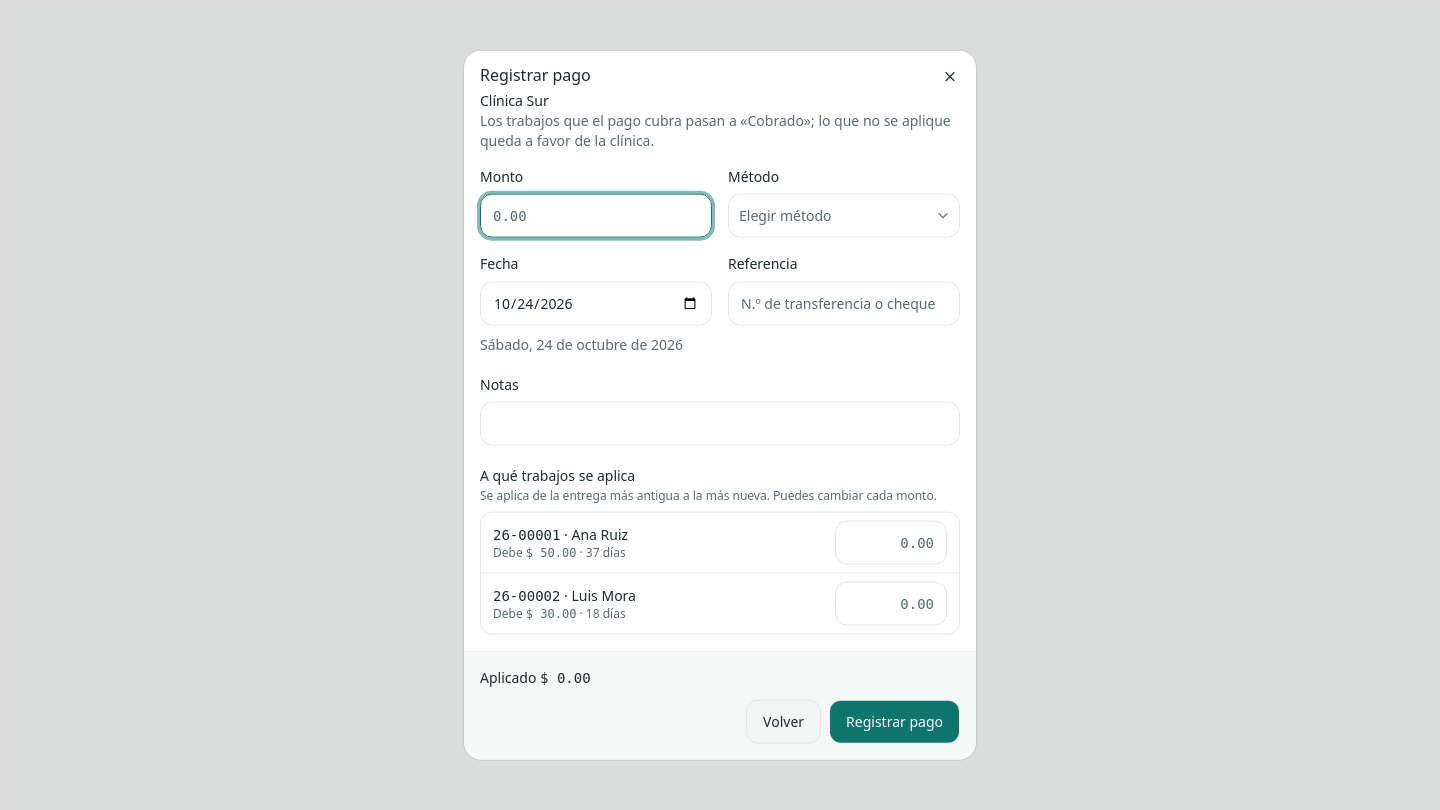
Test: PaymentDialog («Registrar pago», CTA-2) › valida en el formulario: método, y lo aplicado contra el monto
Type "10" into the field labelled "Monto" at (596, 216), box [480, 194, 712, 238]
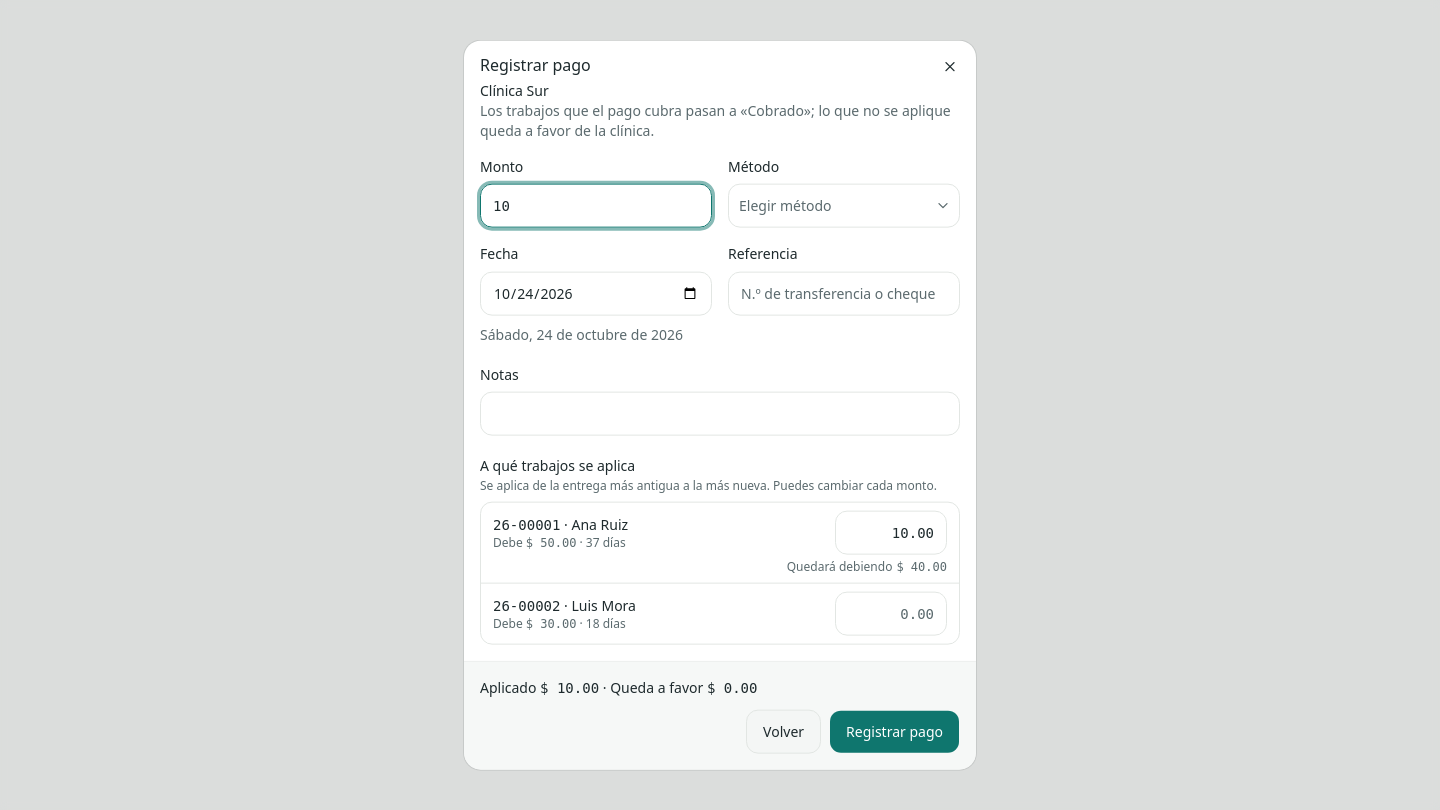
Clear the field named "Monto para 26-00001" at (891, 532), box [835, 510, 947, 554]
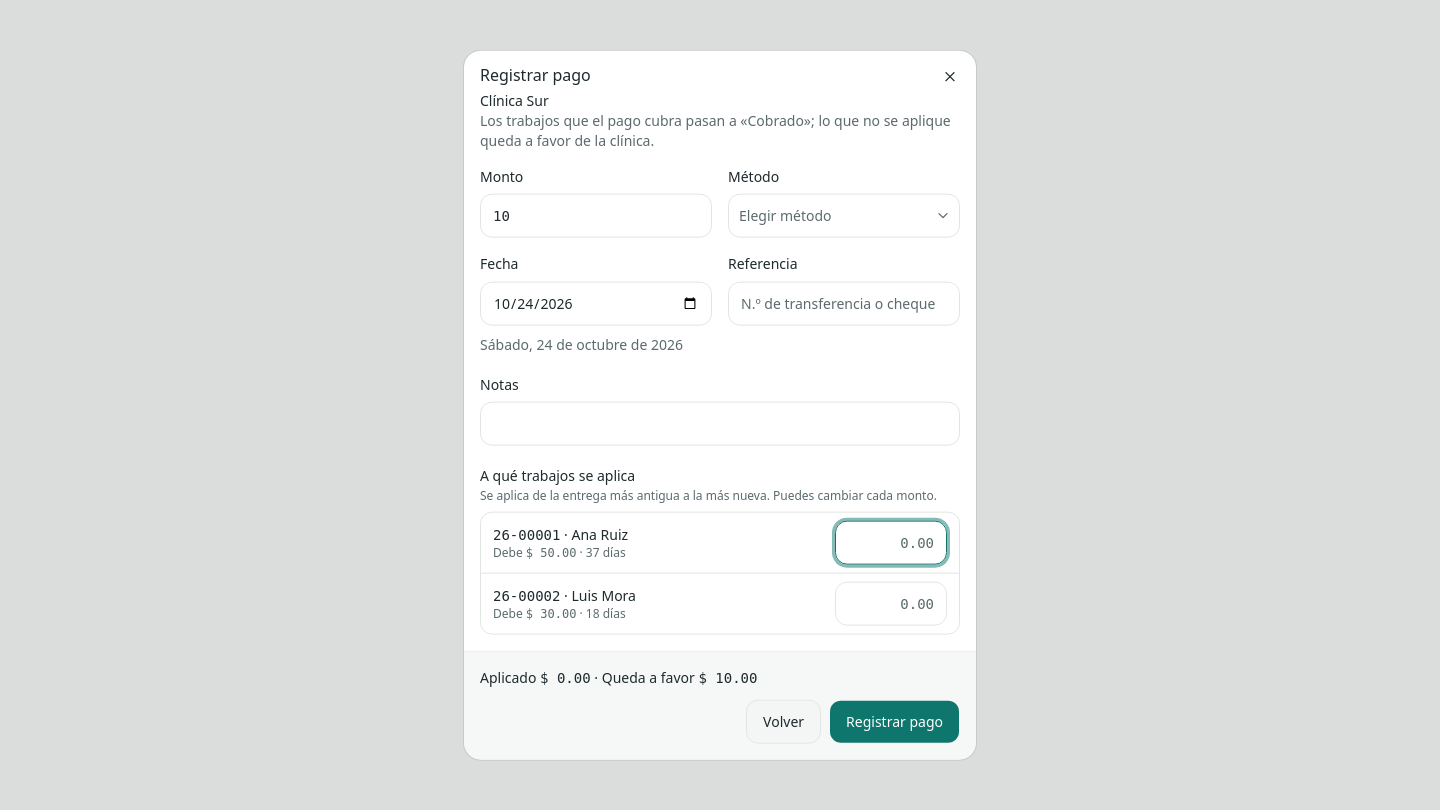
Type "20" into the field named "Monto para 26-00001" at (891, 542), box [835, 520, 947, 564]
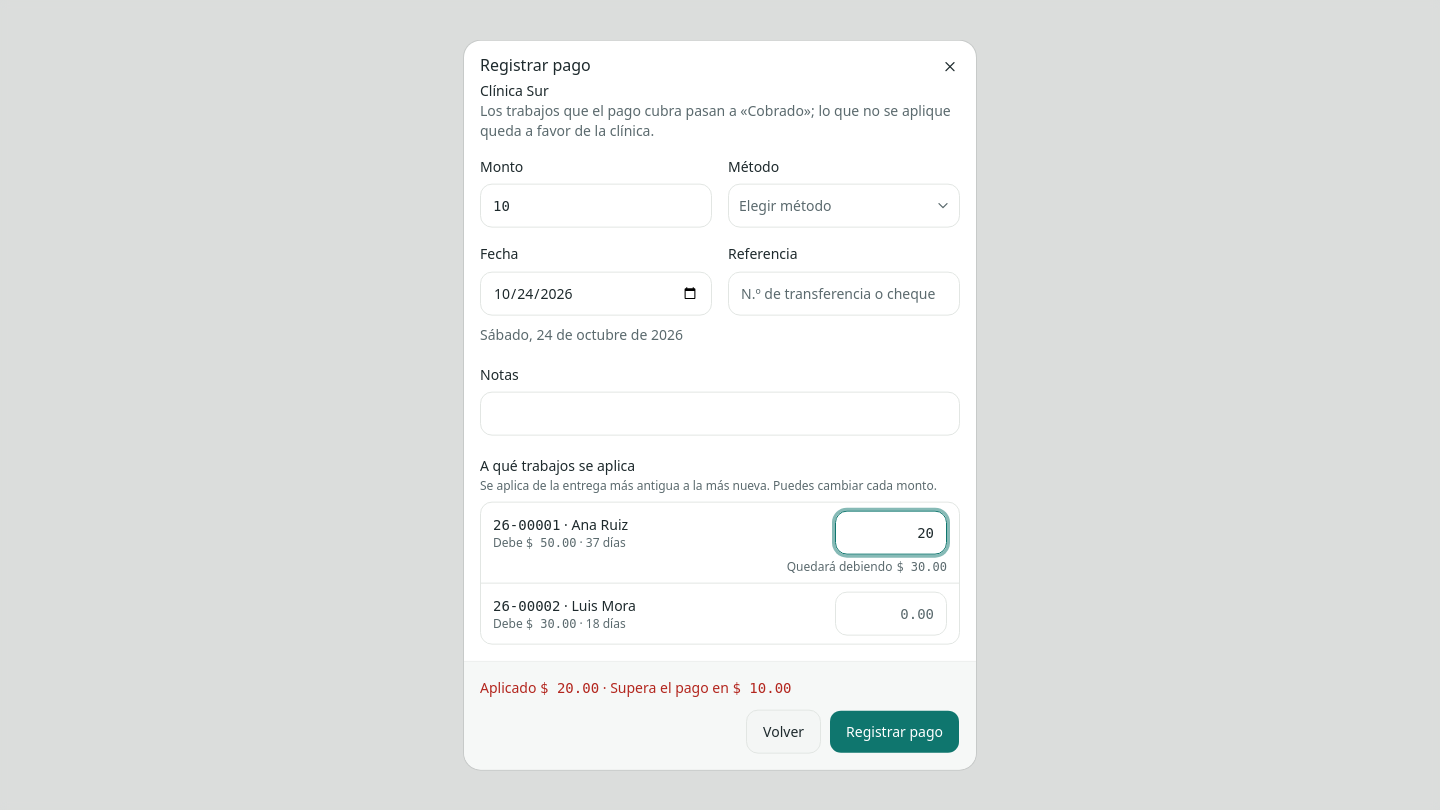
Check: the message reads "Aplicado $ 20.00 · Supera el pago en $ 10.00", box [480, 677, 792, 696]
Click the button "Registrar pago" at (895, 731), box [829, 709, 960, 753]
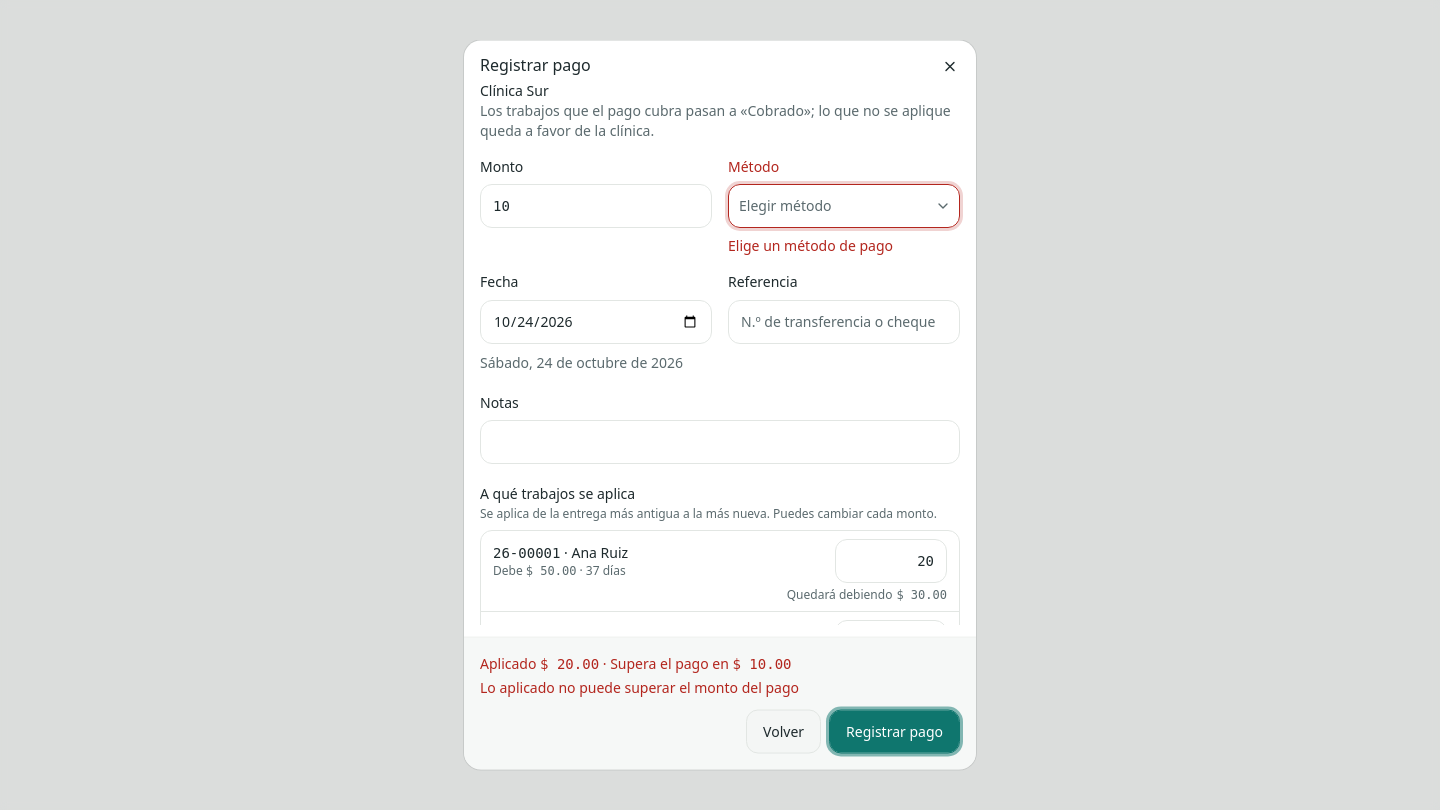
Check: the text "Elige un método de pago" is shown, box [728, 236, 893, 255]
Check: the text "Lo aplicado no puede superar el monto del pago" is shown, box [480, 678, 799, 696]
